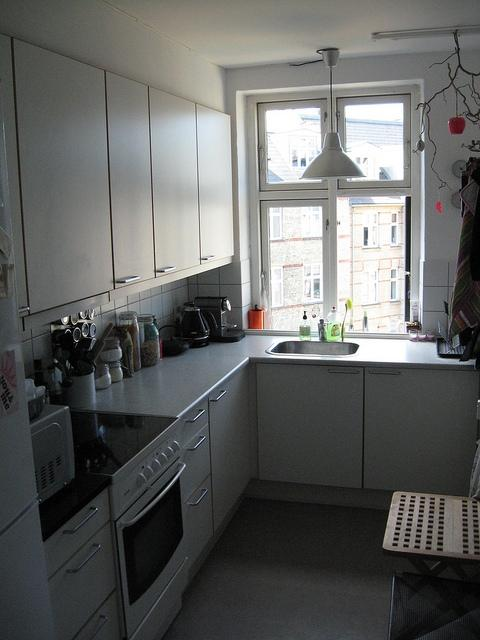apple: (448, 118, 466, 134)
